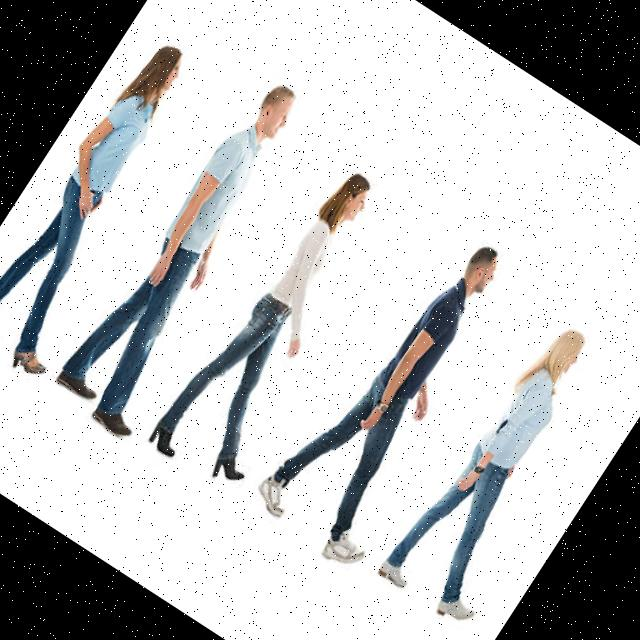Person: (246, 210, 544, 575), (49, 68, 335, 441), (146, 156, 417, 498), (376, 309, 636, 631), (0, 32, 232, 383)
